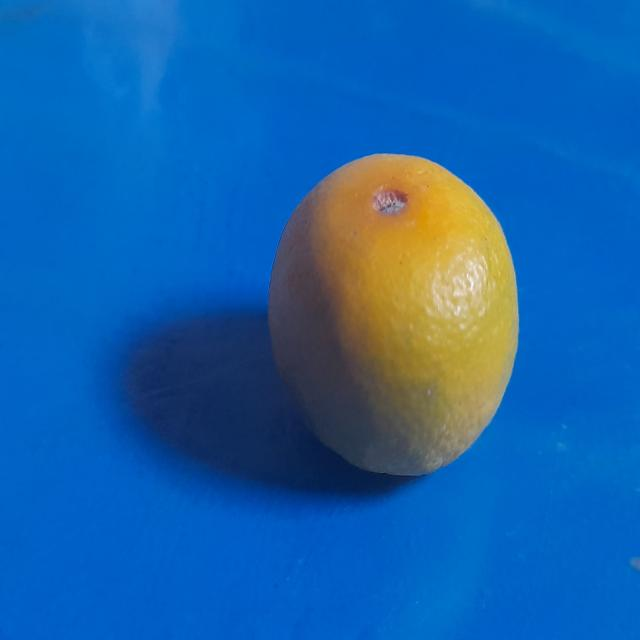greening: (265, 146, 527, 486)
